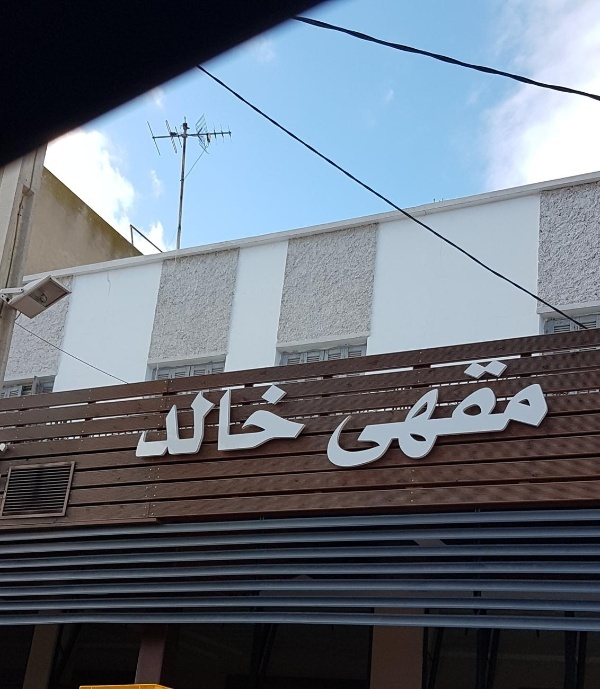text: (353, 350, 368, 472), (369, 350, 384, 472), (385, 350, 400, 472), (401, 350, 416, 472), (417, 350, 432, 472), (433, 350, 448, 472), (449, 350, 464, 472), (465, 350, 480, 472), (481, 350, 496, 472), (497, 350, 512, 472), (513, 350, 528, 472), (529, 350, 544, 472), (338, 350, 352, 472), (545, 350, 558, 472), (161, 380, 176, 458), (177, 380, 192, 458), (193, 380, 208, 458), (209, 380, 224, 458), (225, 380, 240, 458), (241, 380, 256, 458), (257, 380, 272, 458), (273, 380, 288, 458), (289, 380, 304, 458), (156, 380, 160, 458), (305, 380, 307, 458)
